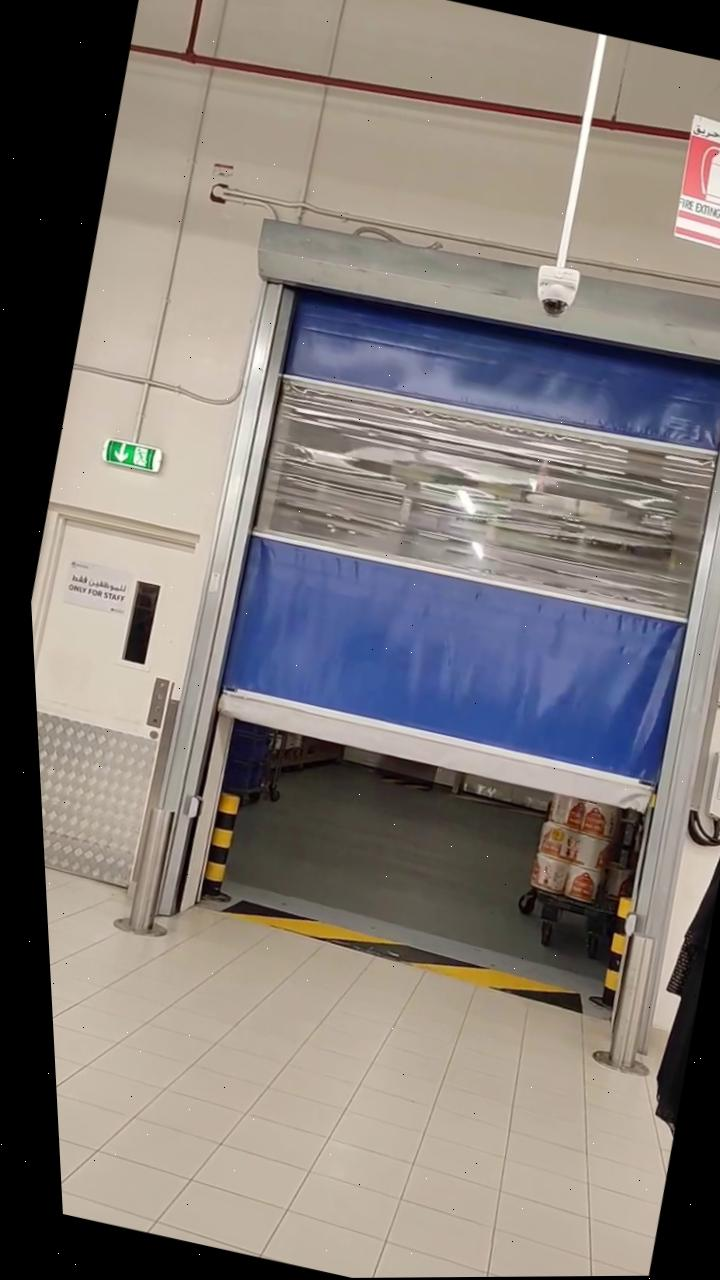Strip: (219, 884, 584, 1020)
